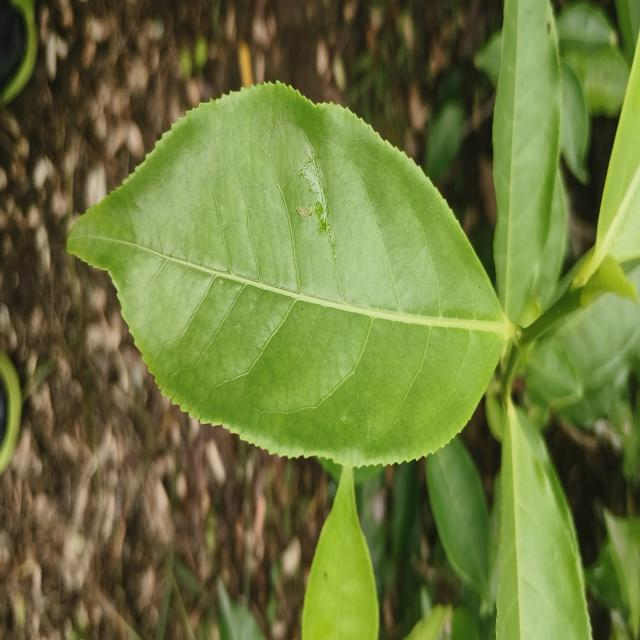Leaf: (68, 83, 511, 466), (496, 404, 591, 640), (493, 0, 560, 321), (576, 40, 640, 284), (302, 466, 379, 640), (426, 438, 492, 602), (564, 46, 629, 116), (560, 60, 590, 183), (526, 339, 578, 402), (426, 100, 464, 182), (217, 578, 265, 640), (557, 2, 617, 50), (391, 460, 417, 559)
